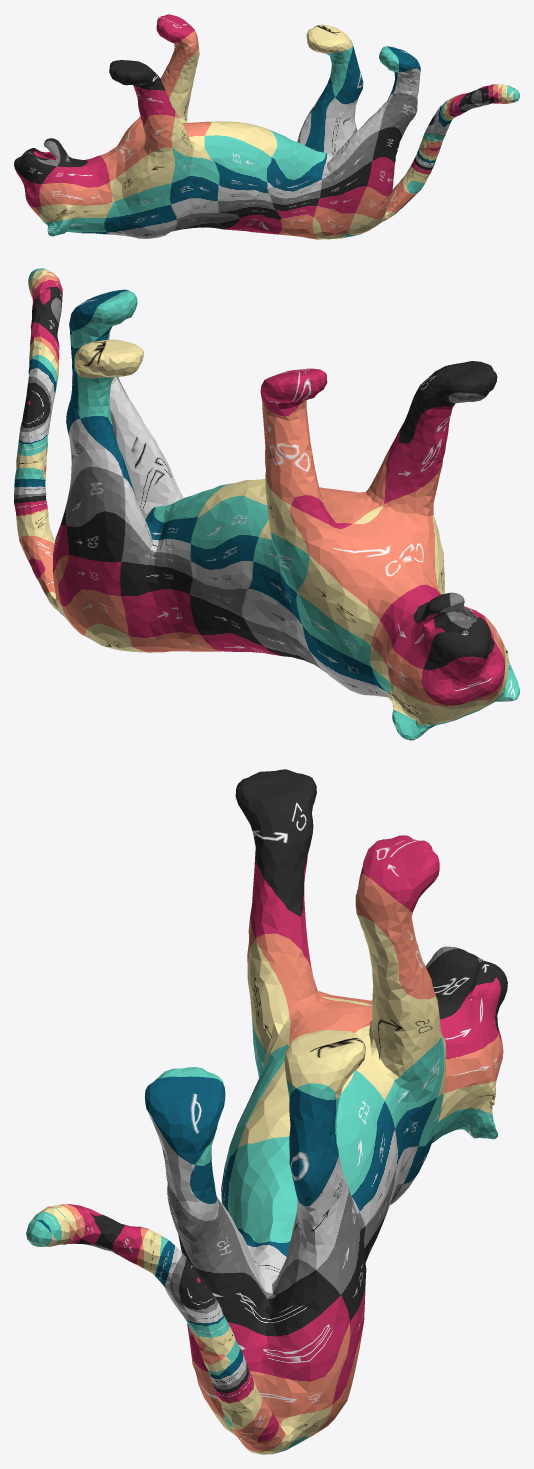
File: hippo_04-cougar_01.obj
3 renders of one model, top to bottom at view 1: azimuth 30°, elevation 25°; view 2: azimuth 150°, elevation 25°; view 3: azimuth 270°, elevation 25°, orthographic. The views are drawn at different scales.
Visible parts, largest first — view 1: hippo_04-cougar_01_export; view 2: hippo_04-cougar_01_export; view 3: hippo_04-cougar_01_export.
Boxes of the visible parts, x1,y1,x2,y2 form: hippo_04-cougar_01_export: (14,14,519,239); hippo_04-cougar_01_export: (14,268,519,740); hippo_04-cougar_01_export: (26,769,507,1454).
Size of the model in its own units: 1.06 by 0.5852 by 0.5632.
